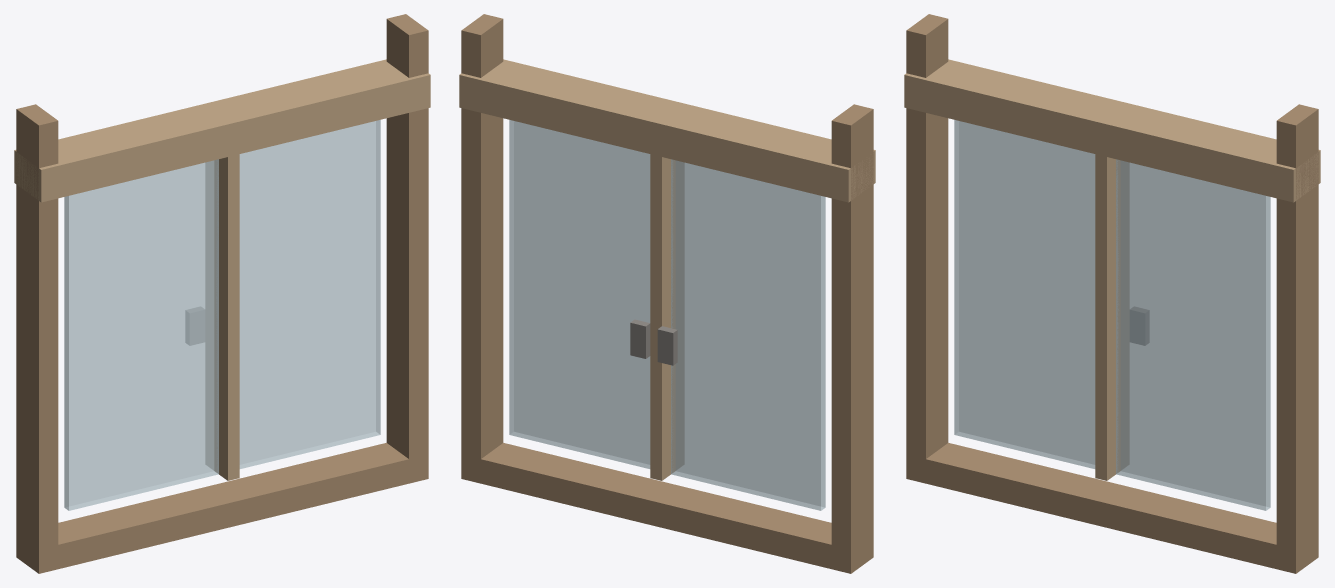
The model's file is 18-Casas_ventana_marco.glb.
The picture shows the model from 3 angles, left to right: view 1: azimuth 30°, elevation 25°; view 2: azimuth 150°, elevation 25°; view 3: azimuth 330°, elevation 25°; orthographic projection.
Parts seen in each view (by area): view 1: SM_Ventana_Cristal_1, SM_Ventana_Cristal_2, SM_Ventana_Dintel, SM_Ventana_Jamba_I, SM_Ventana_Repisa, SM_Ventana_Jamba_D, SM_Ventana_Parteluz, SM_Ventana_Manija_1; view 2: SM_Ventana_Cristal_1, SM_Ventana_Cristal_2, SM_Ventana_Dintel, SM_Ventana_Jamba_I, SM_Ventana_Repisa, SM_Ventana_Jamba_D, SM_Ventana_Parteluz, SM_Ventana_Manija_2, SM_Ventana_Manija_1; view 3: SM_Ventana_Cristal_2, SM_Ventana_Cristal_1, SM_Ventana_Dintel, SM_Ventana_Jamba_D, SM_Ventana_Jamba_I, SM_Ventana_Repisa, SM_Ventana_Parteluz, SM_Ventana_Manija_2.
Boxes of the visible parts, x1=… form: SM_Ventana_Cristal_1: x1=64, y1=159, x2=218, y2=510; SM_Ventana_Cristal_2: x1=239, y1=120, x2=380, y2=468; SM_Ventana_Dintel: x1=14, y1=59, x2=430, y2=202; SM_Ventana_Jamba_I: x1=16, y1=104, x2=58, y2=572; SM_Ventana_Repisa: x1=16, y1=443, x2=428, y2=573; SM_Ventana_Jamba_D: x1=386, y1=14, x2=428, y2=483; SM_Ventana_Parteluz: x1=206, y1=154, x2=239, y2=480; SM_Ventana_Manija_1: x1=186, y1=307, x2=204, y2=345; SM_Ventana_Cristal_1: x1=671, y1=159, x2=825, y2=510; SM_Ventana_Cristal_2: x1=509, y1=120, x2=650, y2=468; SM_Ventana_Dintel: x1=459, y1=59, x2=875, y2=202; SM_Ventana_Jamba_I: x1=831, y1=104, x2=873, y2=573; SM_Ventana_Repisa: x1=461, y1=443, x2=873, y2=568; SM_Ventana_Jamba_D: x1=461, y1=14, x2=503, y2=478; SM_Ventana_Parteluz: x1=650, y1=154, x2=683, y2=480; SM_Ventana_Manija_2: x1=630, y1=319, x2=650, y2=358; SM_Ventana_Manija_1: x1=657, y1=326, x2=677, y2=365; SM_Ventana_Cristal_2: x1=1116, y1=159, x2=1270, y2=510; SM_Ventana_Cristal_1: x1=954, y1=120, x2=1095, y2=468; SM_Ventana_Dintel: x1=904, y1=59, x2=1320, y2=202; SM_Ventana_Jamba_D: x1=1276, y1=104, x2=1318, y2=573; SM_Ventana_Jamba_I: x1=906, y1=14, x2=948, y2=483; SM_Ventana_Repisa: x1=906, y1=443, x2=1318, y2=573; SM_Ventana_Parteluz: x1=1095, y1=154, x2=1128, y2=480; SM_Ventana_Manija_2: x1=1130, y1=307, x2=1148, y2=345.
Size of the model in its own units: 1 by 1.1 by 0.13.
